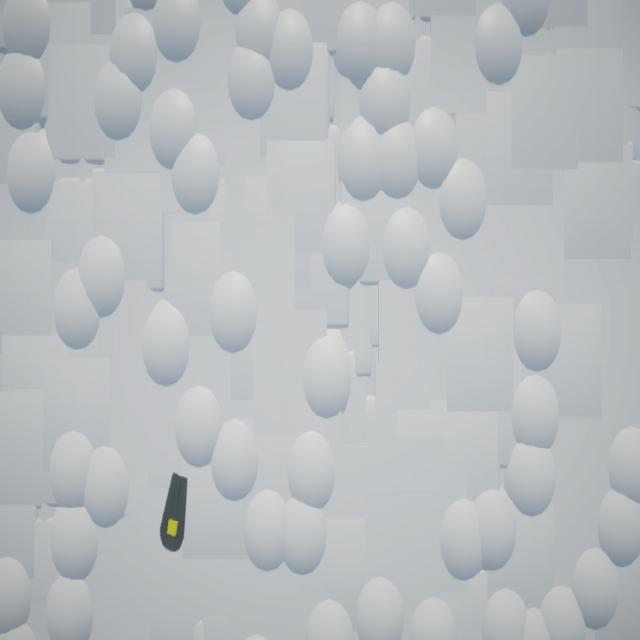handle_folk: (161, 473, 189, 553)
